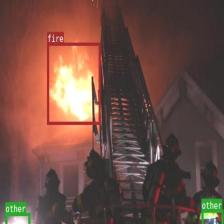fire: (47, 42, 100, 124)
